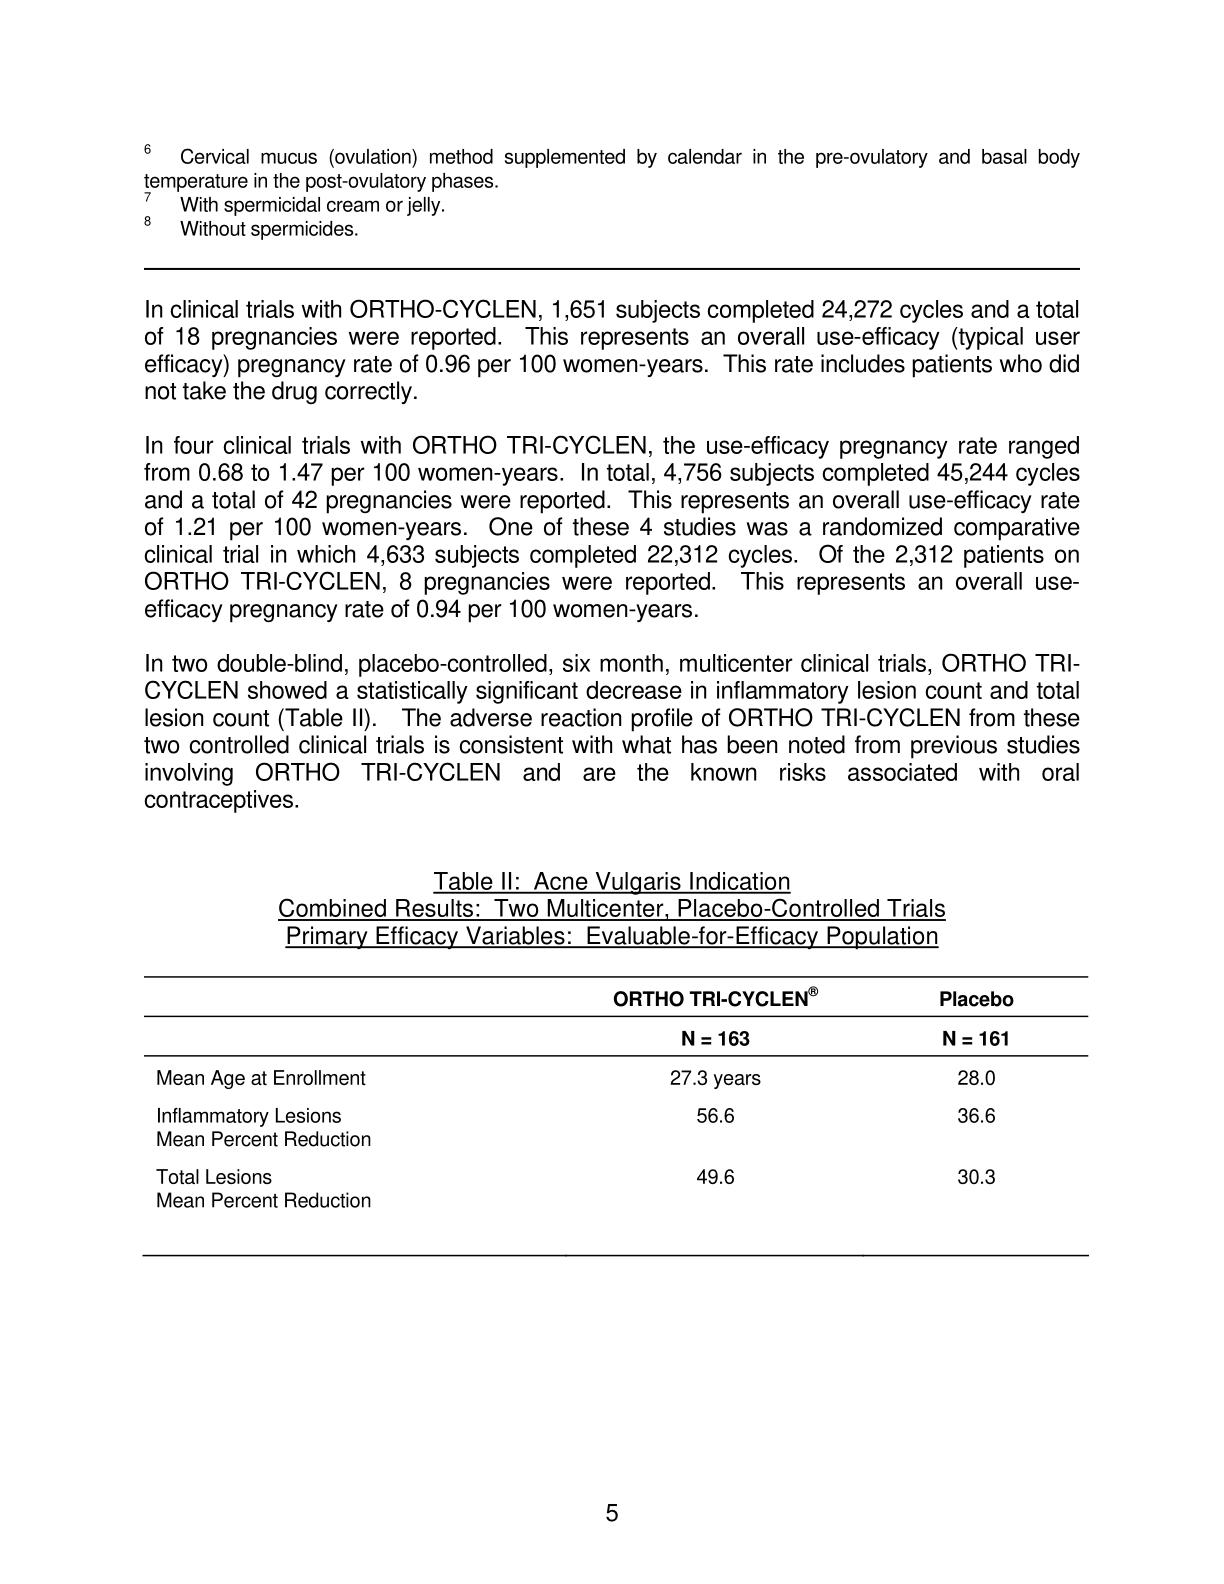partial_lined: (141, 973, 1092, 1260)
